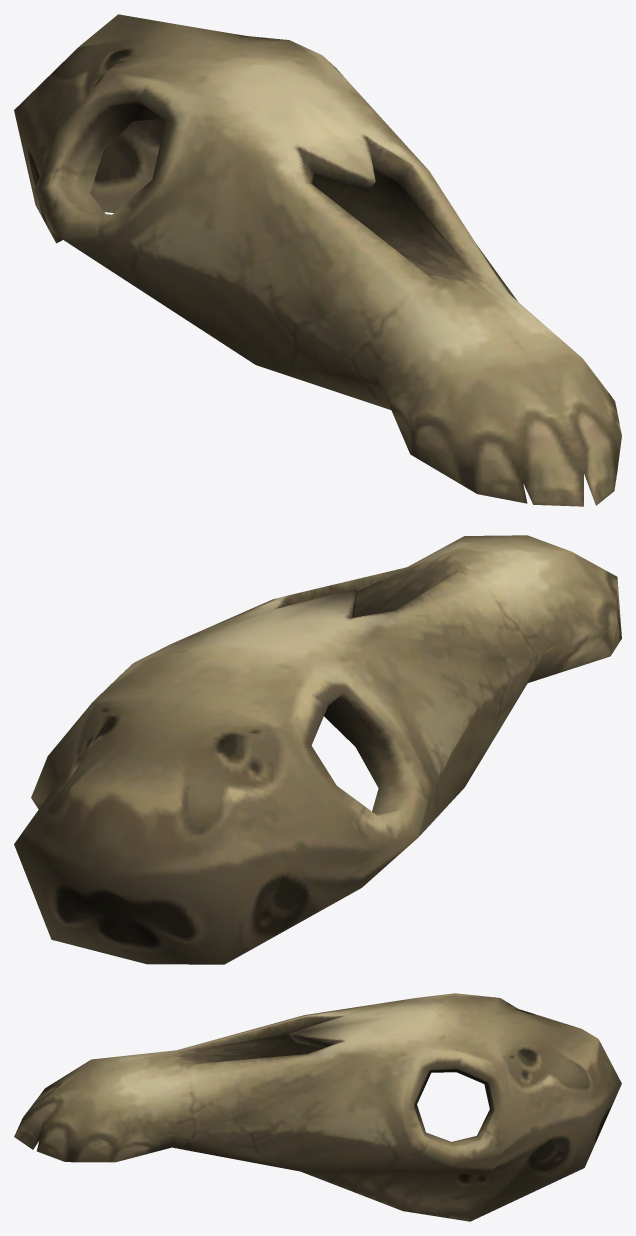
Rendered from environment_common_longgu_001_a.FBX.
3 renders of one model, top to bottom at view 1: azimuth 30°, elevation 25°; view 2: azimuth 150°, elevation 25°; view 3: azimuth 270°, elevation 25°, orthographic. The views are drawn at different scales.
Parts seen in each view (by area): view 1: environment_common_longgu_001_a; view 2: environment_common_longgu_001_a; view 3: environment_common_longgu_001_a.
Boxes of the visible parts, x1,y1,x2,y2 form: environment_common_longgu_001_a: (14, 14, 621, 506); environment_common_longgu_001_a: (14, 535, 621, 964); environment_common_longgu_001_a: (14, 993, 621, 1221).
Size of the model in its own units: 99.16 by 77.24 by 242.
